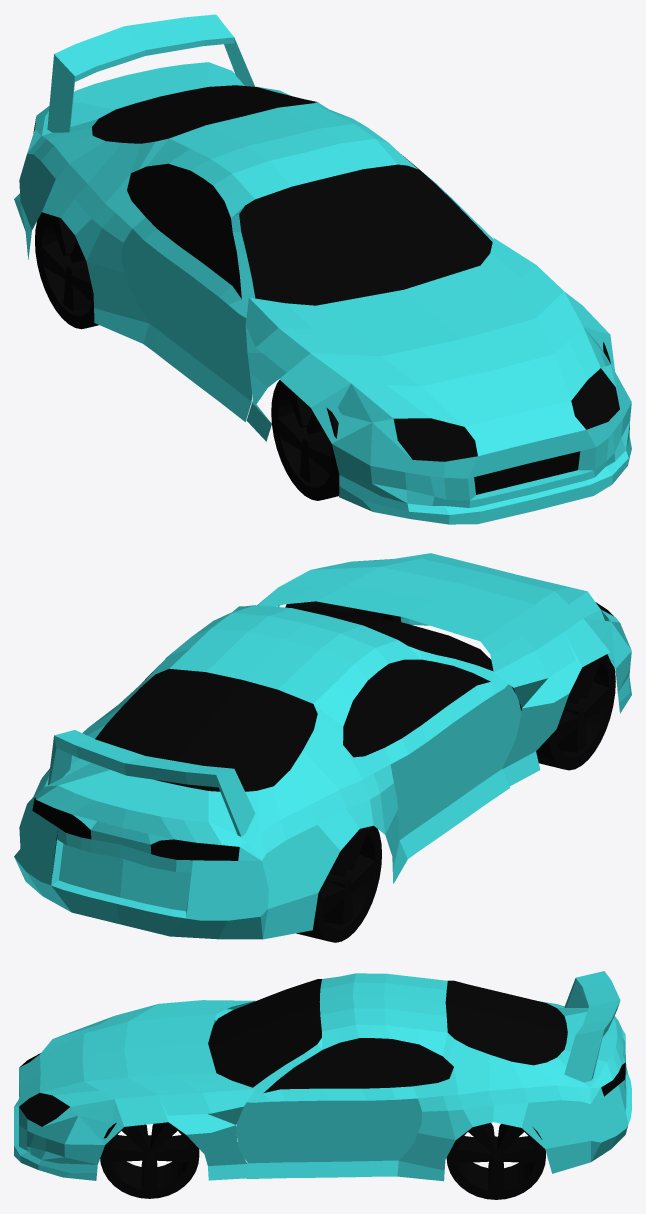
The model's file is sample3.glb.
3 views of the same model, one above another, from view 1: azimuth 30°, elevation 25°; view 2: azimuth 150°, elevation 25°; view 3: azimuth 270°, elevation 25° (orthographic). The views are drawn at different scales.
Parts seen in each view (by area): view 1: Plane, Plane.001, Plane.002, Cylinder.002, Cylinder.003; view 2: Plane, Plane.001, Plane.002, Cylinder.003, Cylinder.002, Cylinder; view 3: Plane, Plane.001, Cylinder, Cylinder.001, Plane.002.
Boxes of the visible parts, box(x1,y1,x2,y2) form: Plane: box(14, 62, 493, 421); Plane.001: box(245, 238, 631, 524); Plane.002: box(47, 14, 254, 132); Cylinder.002: box(271, 380, 339, 500); Cylinder.003: box(35, 212, 98, 329); Plane: box(14, 605, 521, 939); Plane.001: box(257, 553, 631, 786); Plane.002: box(48, 730, 255, 836); Cylinder.003: box(296, 825, 381, 942); Cylinder.002: box(511, 654, 615, 770); Cylinder: box(285, 601, 401, 622); Plane: box(208, 973, 631, 1181); Plane.001: box(14, 1000, 255, 1180); Cylinder: box(100, 1122, 199, 1198); Cylinder.001: box(446, 1122, 545, 1199); Plane.002: box(564, 971, 620, 1082).
Bounding box in the file's own units: 1.9 × 1.25 × 4.54.
